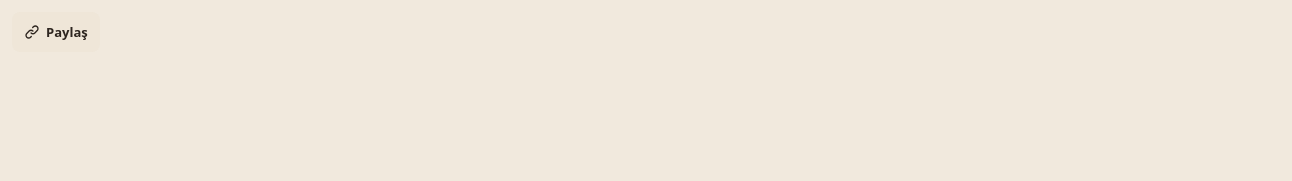
it: share button › copies the public link to the position and shows it
Click the button with class "share-btn" at (56, 32), box [12,12,100,52]
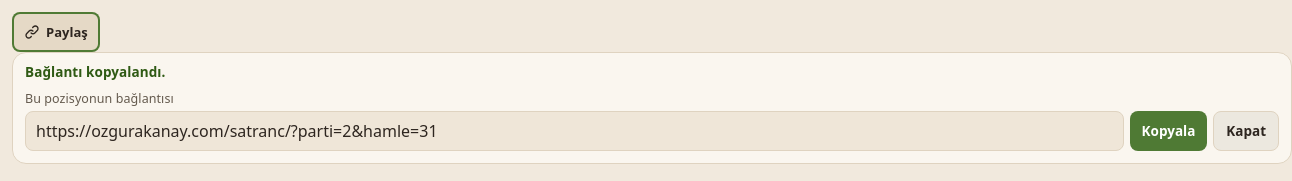
Now the message "Bağlantı kopyalandı." is shown, box [25,63,165,81]
Now the field labelled "Bu pozisyonun bağlantısı" holds "https://ozgurakanay.com/satranc/?parti=2&hamle=31", box [25,111,1124,151]
